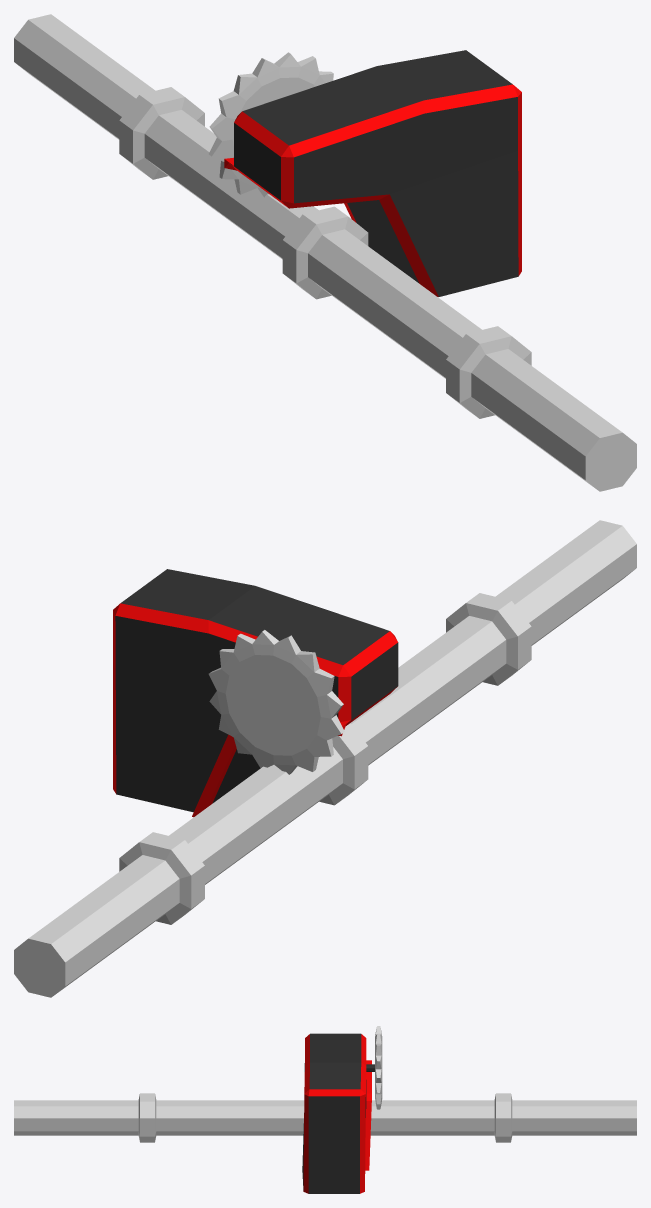
File: Chainsaw and Tube.fbx
The picture shows the model from 3 angles, top to bottom: view 1: azimuth 30°, elevation 25°; view 2: azimuth 150°, elevation 25°; view 3: azimuth 270°, elevation 25°; orthographic projection. The views are drawn at different scales.
Parts seen in each view (by area): view 1: Machine, Tube, Chainsaw; view 2: Tube, Machine, Chainsaw; view 3: Tube, Machine, Chainsaw.
Boxes of the visible parts, x1,y1,x2,y2 form: Machine: (224, 50, 521, 296); Tube: (14, 14, 636, 491); Chainsaw: (209, 52, 333, 197); Tube: (14, 520, 636, 997); Machine: (113, 569, 398, 817); Chainsaw: (208, 630, 344, 774); Tube: (14, 1093, 636, 1142); Machine: (302, 1033, 374, 1193); Chainsaw: (375, 1026, 382, 1109).
Size of the model in its own units: 966 by 792 by 3862.
